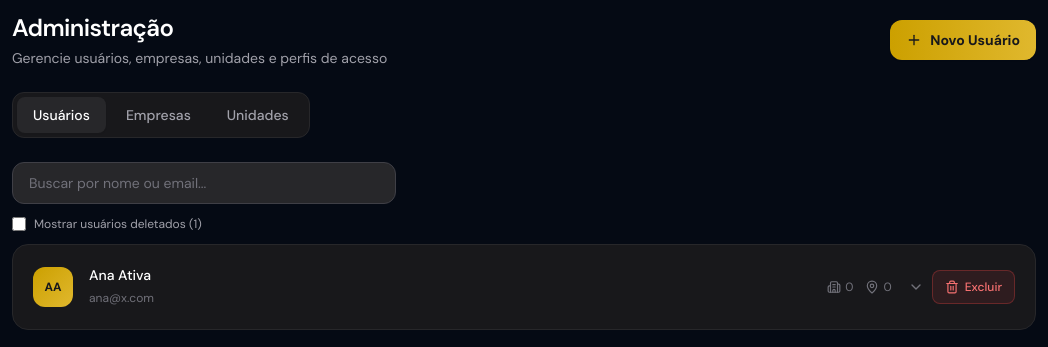
Test: AdminPage portal — seções Perfis RBAC e Acesso ao Motor › busca por nome/email filtra a lista de usuários
Expected: the text "Ana Ativa" is shown, [89,265,151,285]
Type "bruno@x.com" into the search field named "Buscar usuário por nome ou email" at (204, 183), box [12,162,396,204]
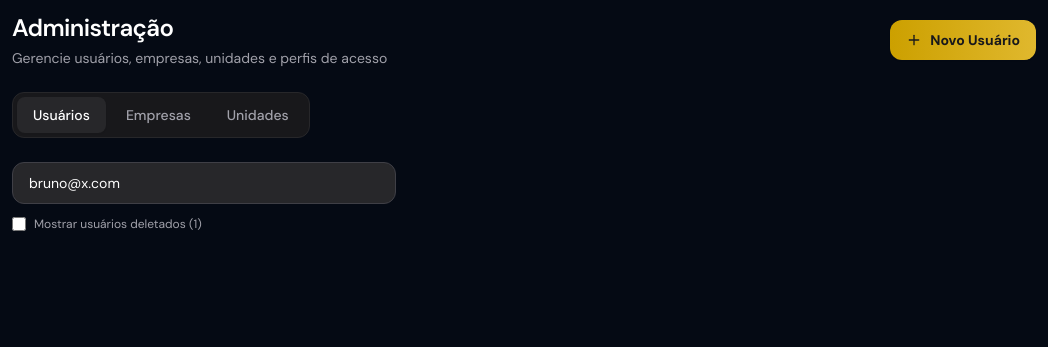
Now the button "Ana Ativa" is gone
Replace the text in the search field named "Buscar usuário por nome ou email" with "ana" at (204, 183), box [12,162,396,204]
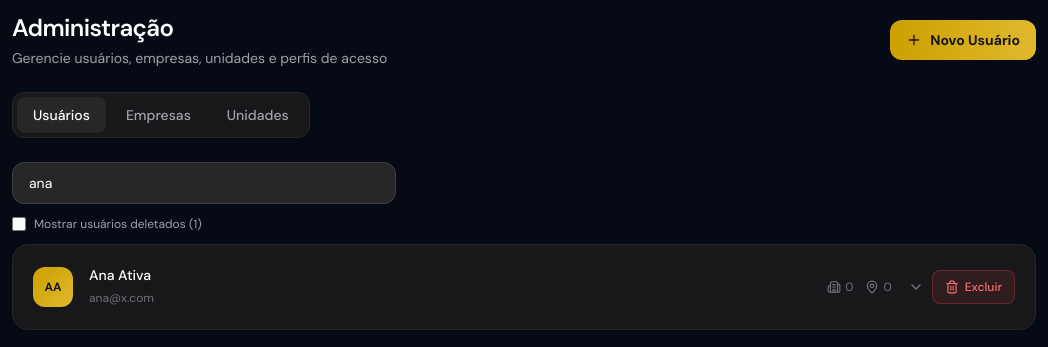
Now the text "Ana Ativa" is shown, box [89,265,151,285]
